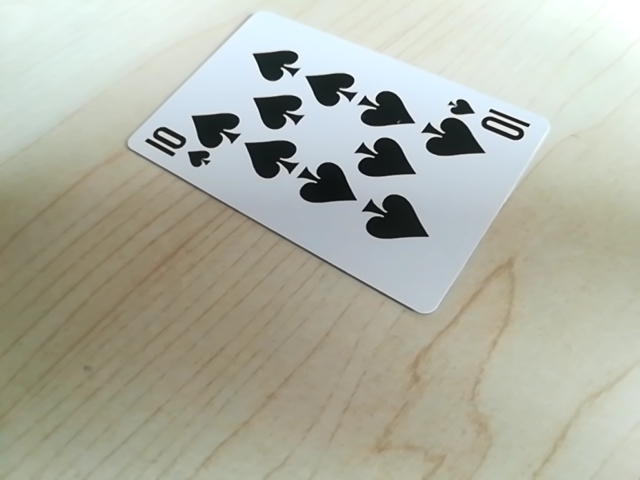ht 10: (442, 98, 541, 142), (138, 126, 209, 172)
